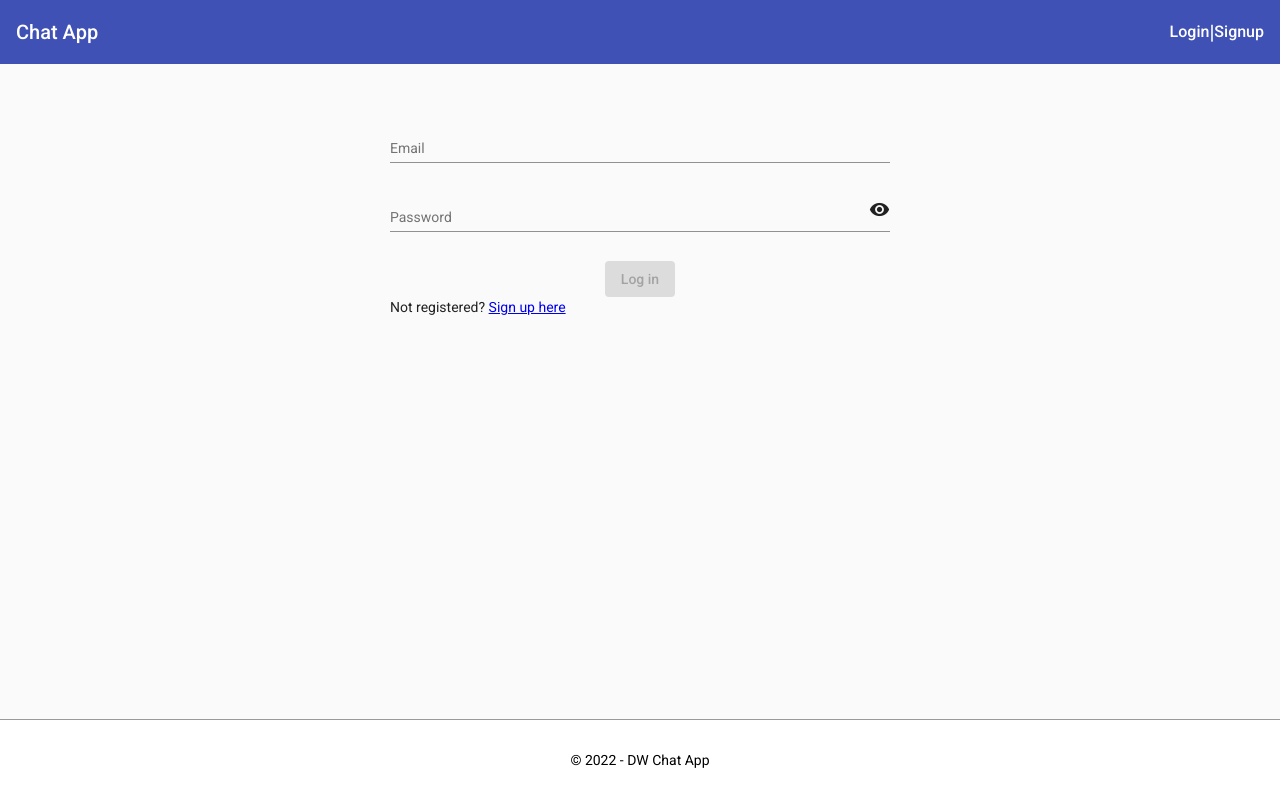
Login tests › should show error with wrong credentials
In the field named "email": point(640, 149) x1=390 y1=141 x2=890 y2=157, type "hola@hola.com"
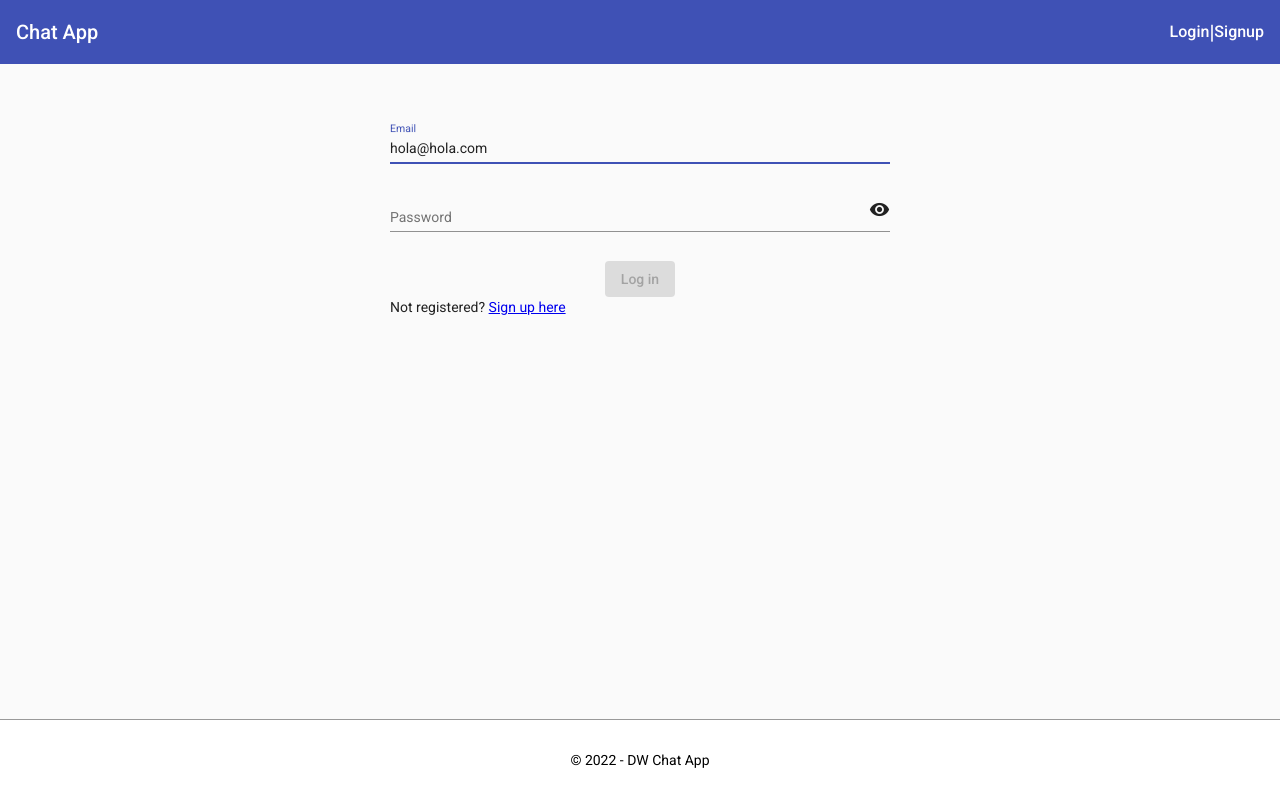
In the password field named "password": point(630, 218) x1=390 y1=210 x2=869 y2=226, type "123"
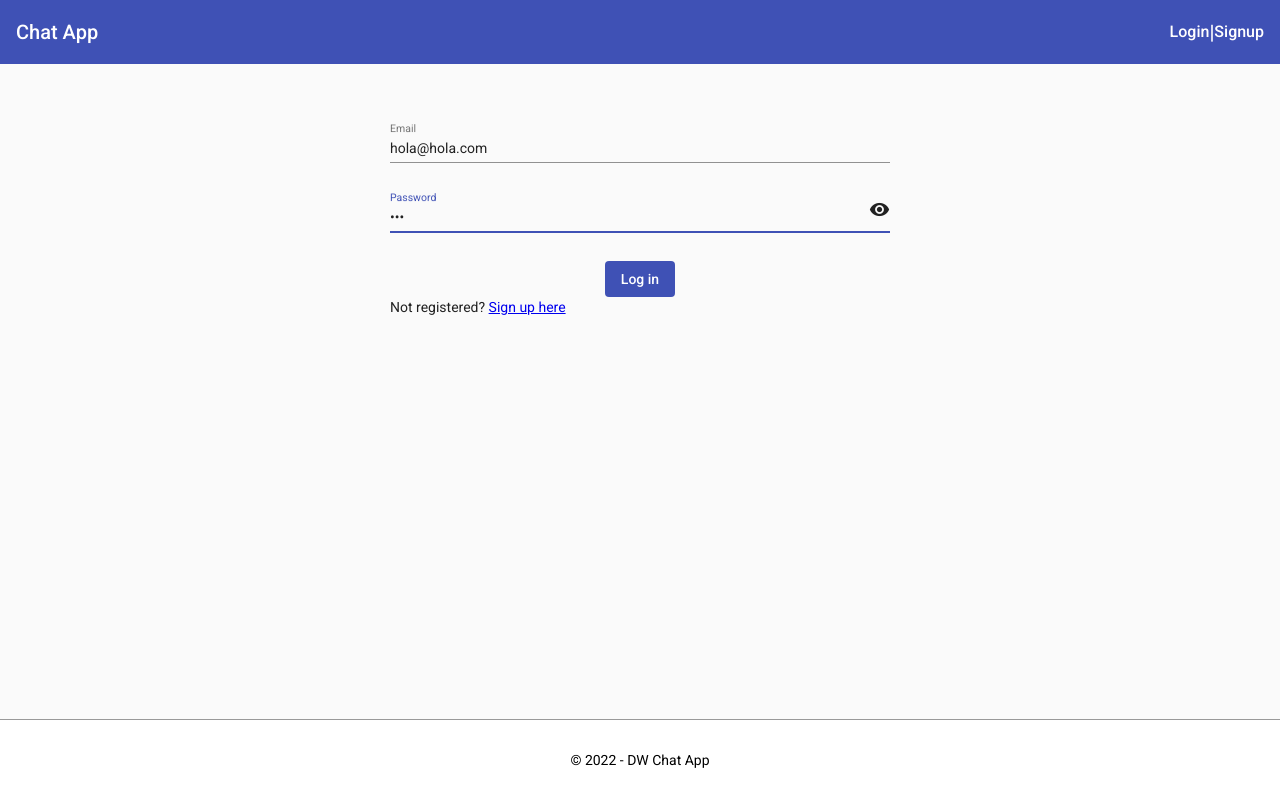
Click the button "Log in": point(640, 279) x1=605 y1=261 x2=675 y2=297
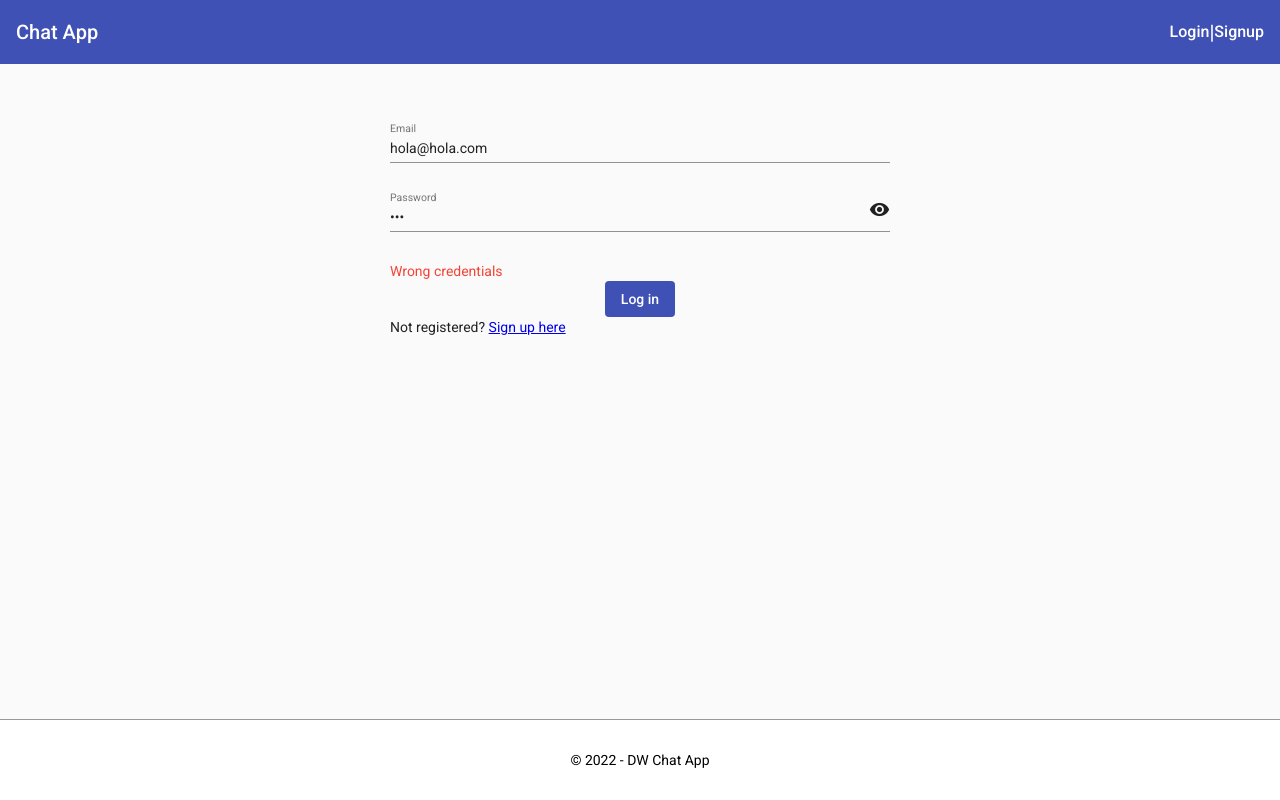
Now the text "Wrong credentials" is shown, box x1=390 y1=263 x2=503 y2=279
